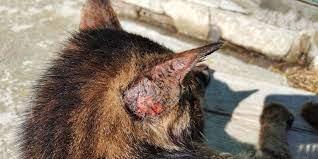ringworm: (126, 70, 173, 124)
